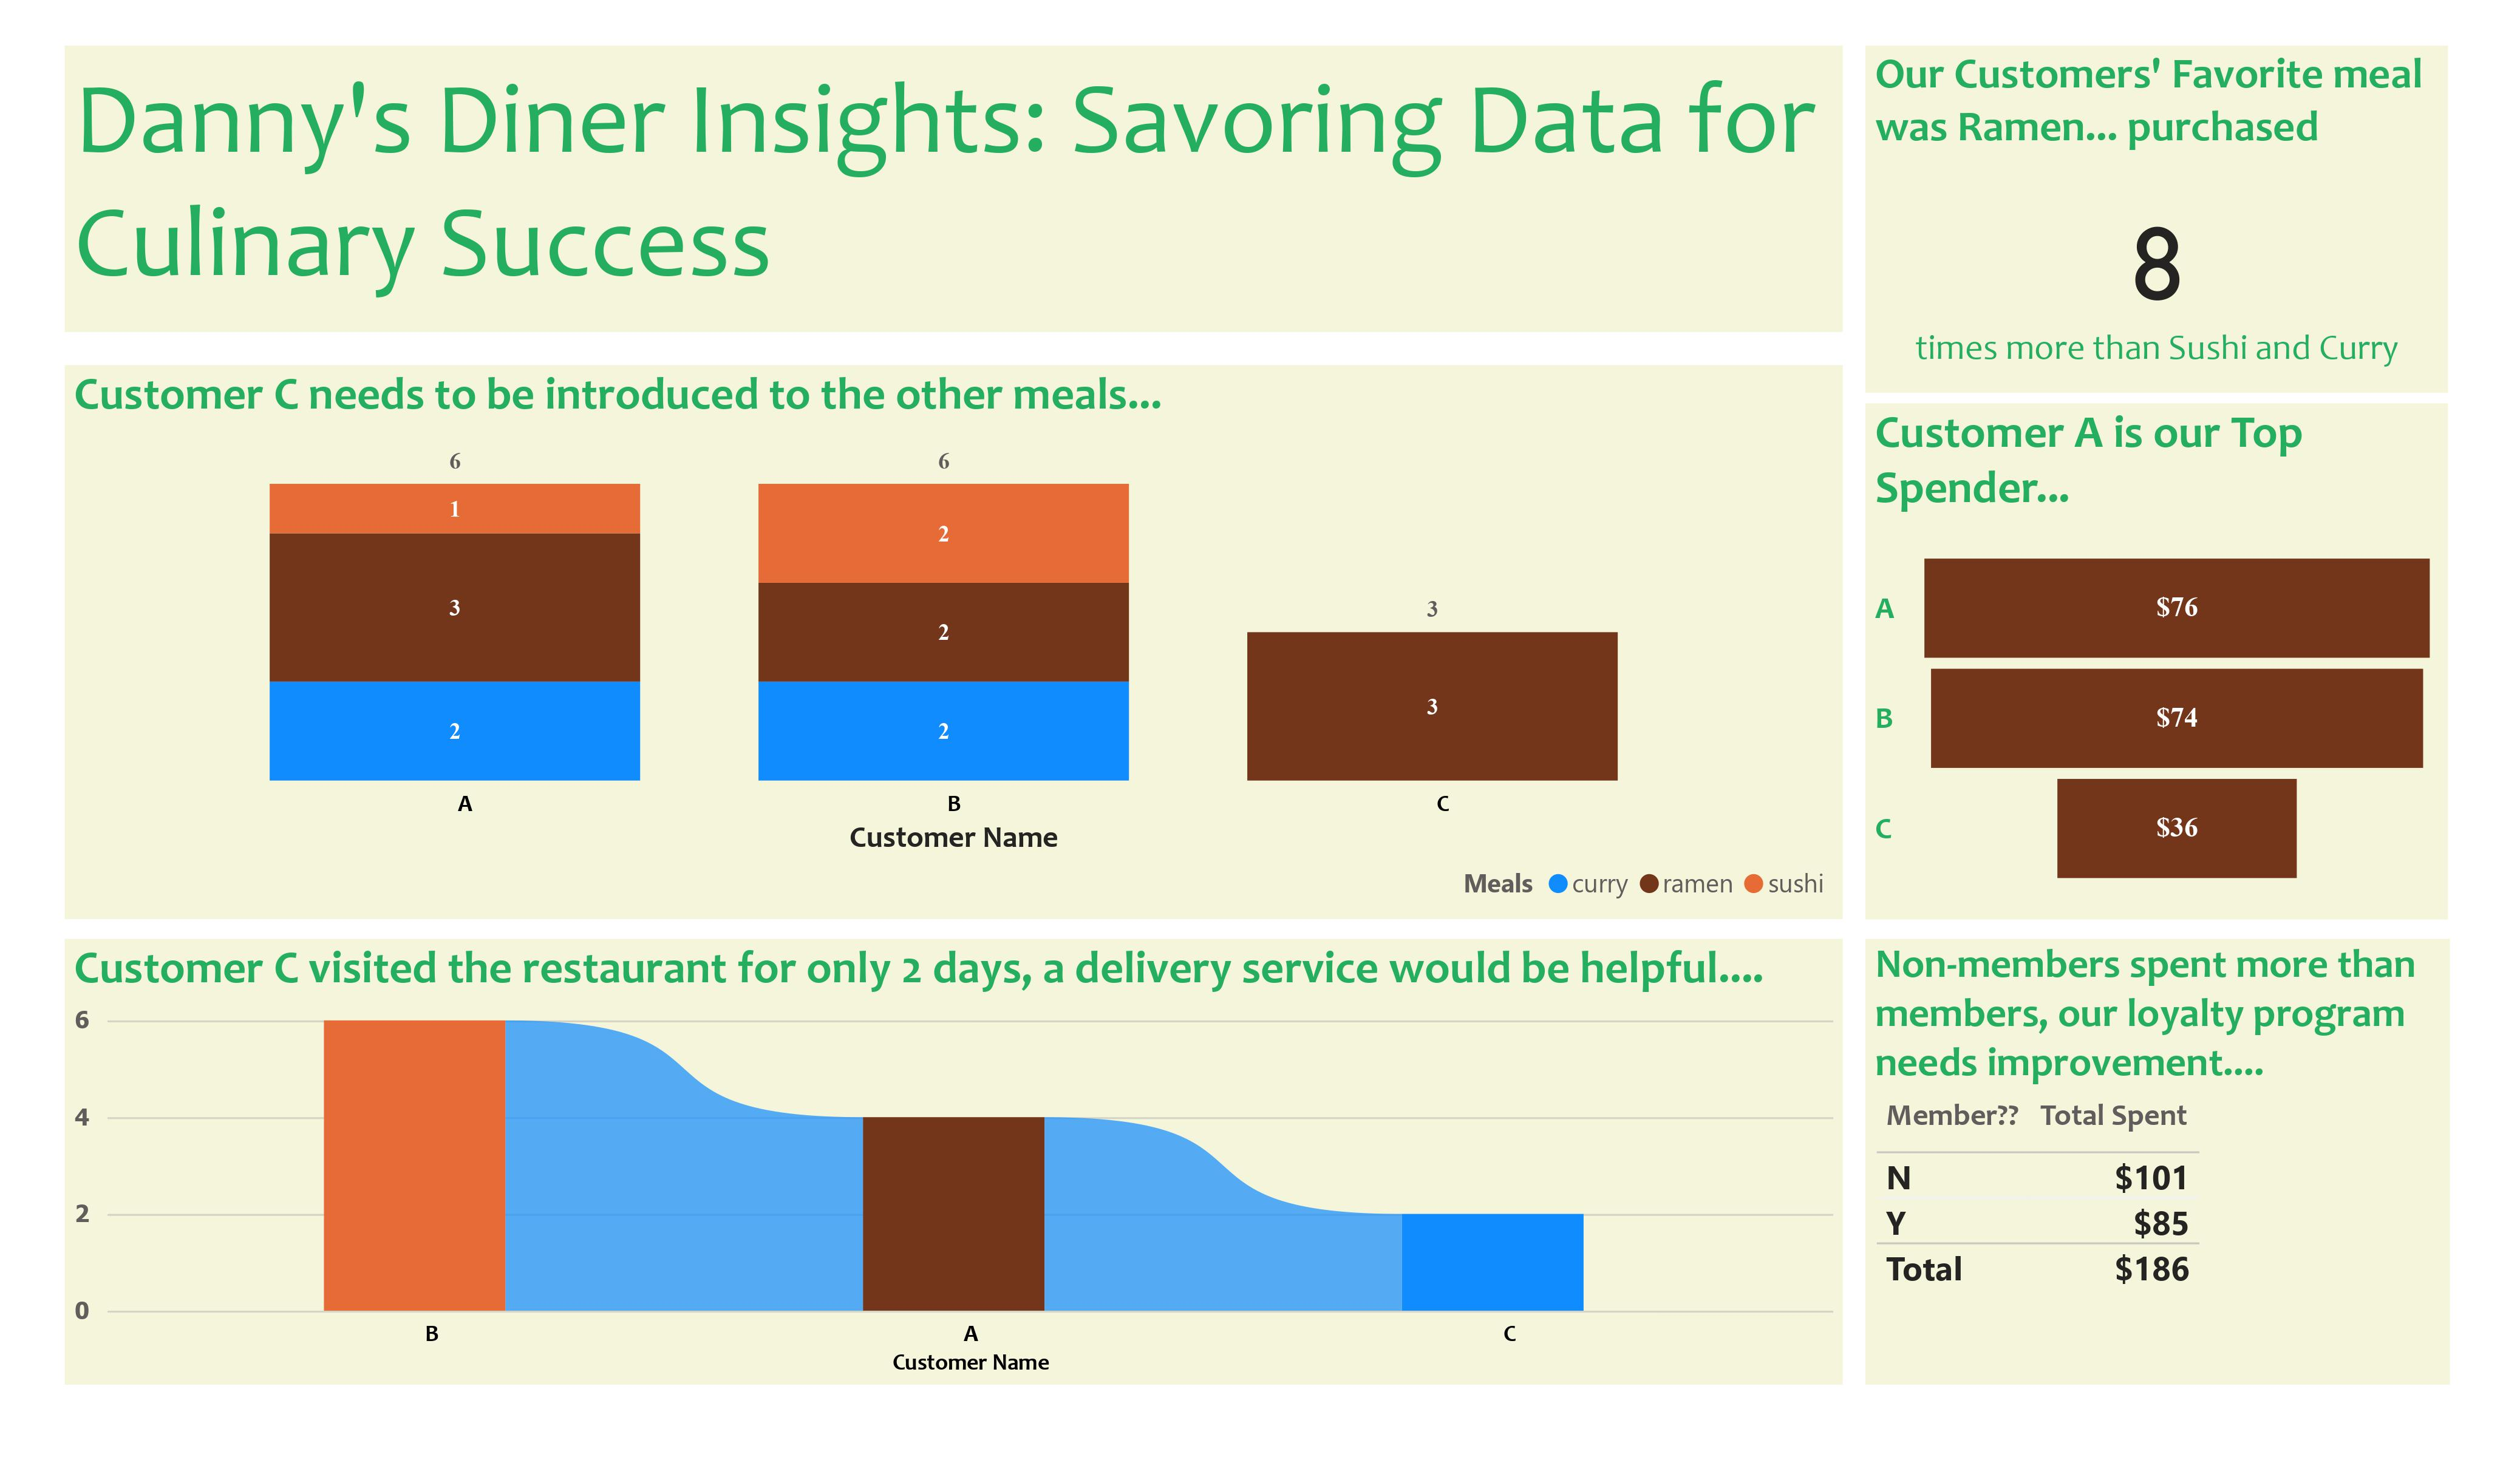

What the dashboard file says about the page in this screenshot:
{"tool":"powerbi","page":{"name":"Page 1","canvas":[1280,720],"ordinal":0},"visuals":[{"type":"textbox","box":[10.1,0,937.4,151.2],"z":0},{"type":"card","title":"Our Customers'' Favorite meal was Ramen... purchased","fields":{"Values":["most_purchased item.total_purchased"]},"box":[959.2,0,307.4,183.1],"z":1},{"type":"columnChart","title":"Customer C needs to be introduced to the other meals...","fields":{"Category":["most_popular item(each customer).customer_id"],"Y":["most_popular item(each customer).purchase_count"],"Series":["most_popular item(each customer).product_name"]},"box":[10.1,168,937.3,292.3],"z":2},{"type":"funnel","title":"Customer A is our Top Spender...","fields":{"Category":["total_spent.customer_id"],"Y":["total_spent.total_spent"]},"box":[959.2,188.1,307.4,272.1],"z":3},{"type":"tableEx","title":"Non-members spent more than members, our loyalty program needs improvement....","fields":{"Values":["ranking.member","ranking.price"]},"box":[959,470.9,308.2,234.7],"z":4},{"type":"ribbonChart","title":"Customer C visited the restaurant for only 2 days, a delivery service would be helpful....","fields":{"Category":["days_visited.customer_id"],"Y":["days_visited.days_visited"]},"box":[10,471,937,235],"z":5}]}

Visuals, with their boxes on the page's 1280x720 design canvas (x1, y1, x2, y2). These are canvas units, not pixel positions in the 2520x1457 screenshot, which may show the page scaled, cropped or inside an application window:
textbox: [10, 0, 948, 151]
"Our Customers'' Favorite meal was Ramen... purchased" card: [959, 0, 1267, 183]
"Customer C needs to be introduced to the other meals..." columnChart: [10, 168, 947, 460]
"Customer A is our Top Spender..." funnel: [959, 188, 1267, 460]
"Non-members spent more than members, our loyalty program needs improvement...." tableEx: [959, 471, 1267, 706]
"Customer C visited the restaurant for only 2 days, a delivery service would be helpful...." ribbonChart: [10, 471, 947, 706]
